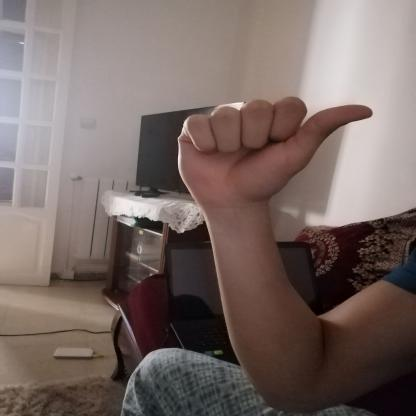DAD: (160, 88, 394, 220)
